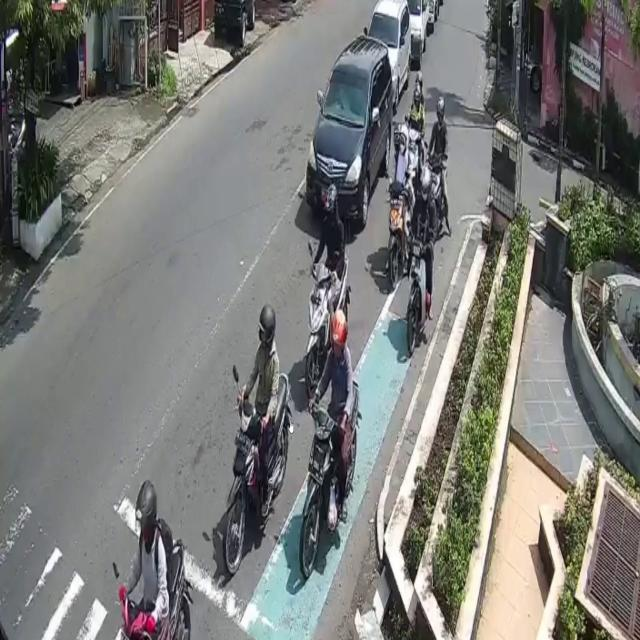bus: (221, 374, 290, 578), (297, 378, 361, 579), (113, 540, 192, 640), (306, 249, 348, 387), (403, 235, 428, 362), (385, 177, 407, 288)
motorcycle: (306, 38, 391, 228), (366, 2, 411, 107)
